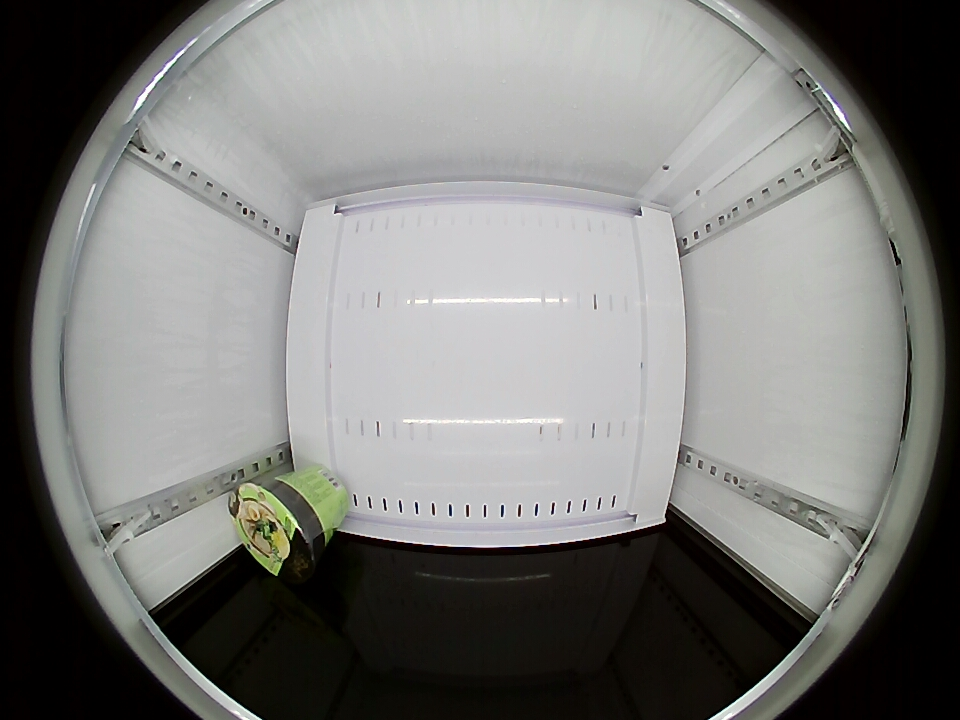tangdaren: (229, 478, 326, 582)
